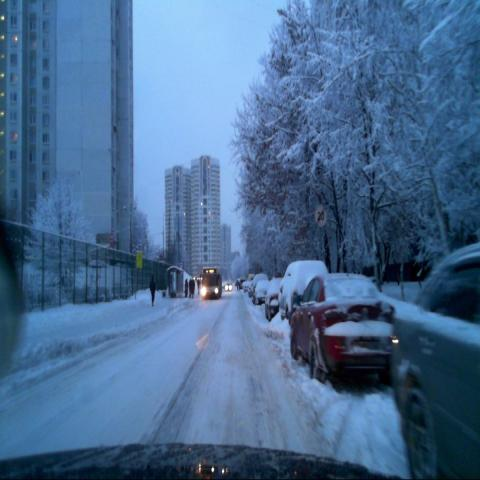3_25: (312, 204, 326, 225)
